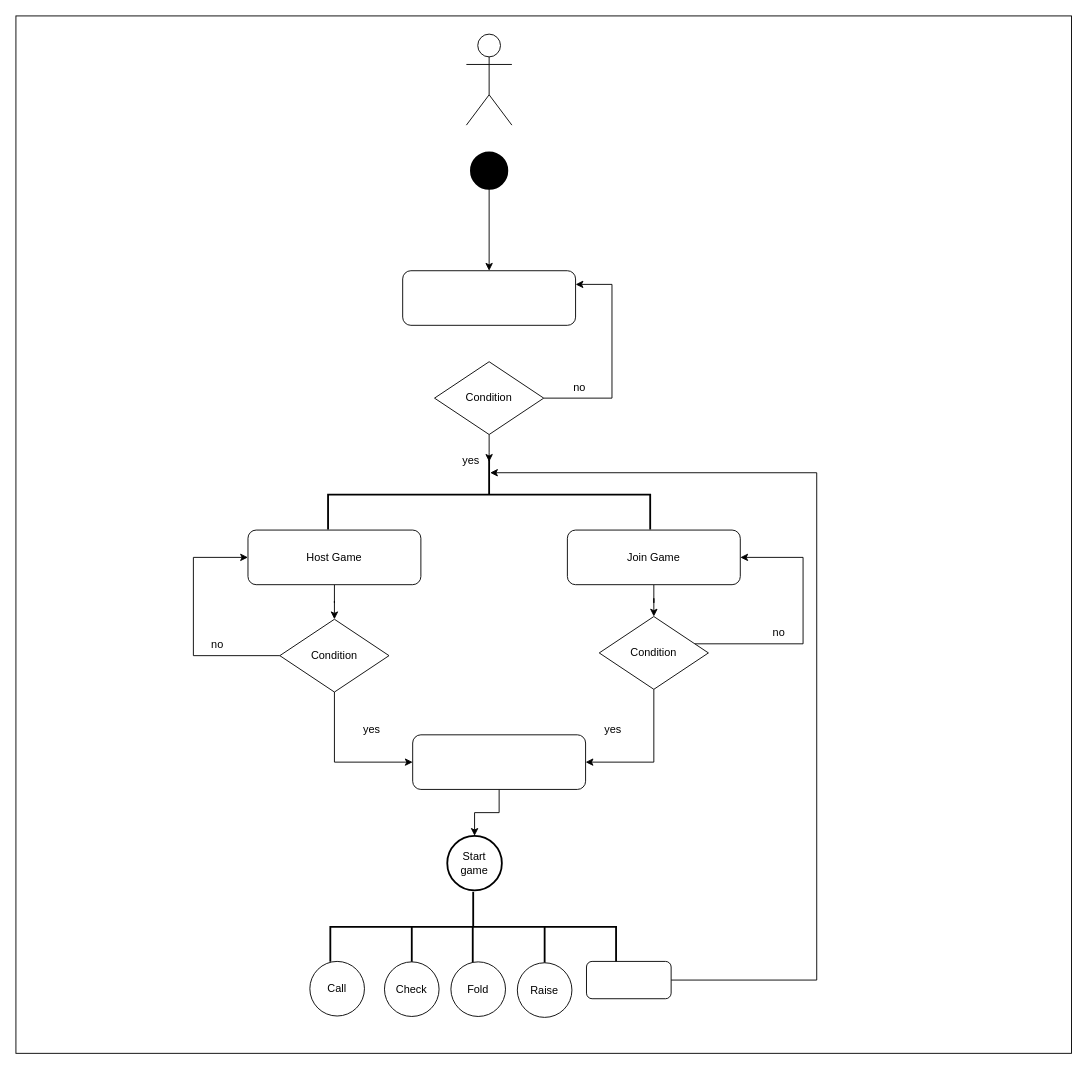
This 1087x1069 diagram has some shape labels left out. The shapes that lost their labels are listed below. From the top down, each one's centre as x and y in pixels, then its label:
At [488,79]: "User".
At [489,297]: "Login".
At [499,761]: "Table".
At [628,980]: "Leave game".
